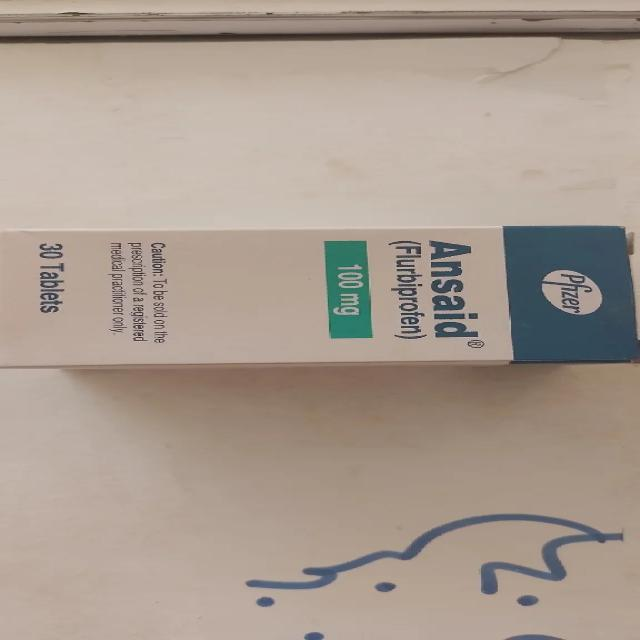drug-name: (425, 236, 488, 344)
